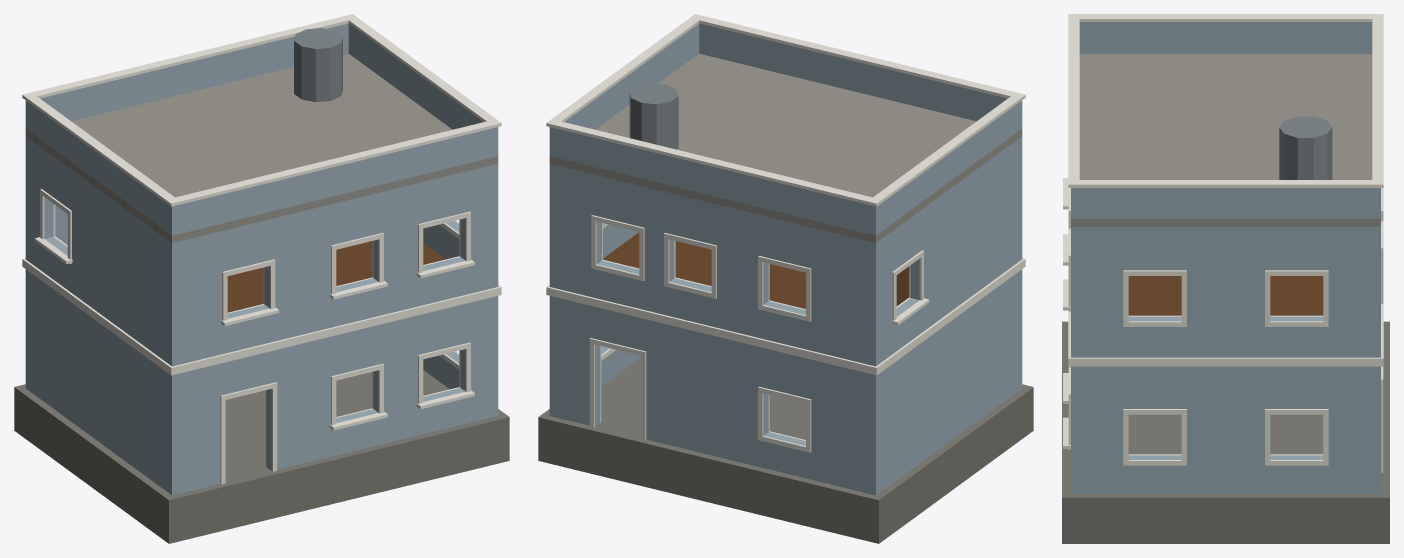
File: house_tall.glb
The picture shows the model from 3 angles, left to right: view 1: azimuth 30°, elevation 25°; view 2: azimuth 150°, elevation 25°; view 3: azimuth 270°, elevation 25°; orthographic projection. The views are drawn at different scales.
Visible parts, largest first — view 1: house_tall; view 2: house_tall; view 3: house_tall.
Boxes of the visible parts, bbox=[...] form: house_tall: bbox=[14, 14, 509, 543]; house_tall: bbox=[538, 14, 1033, 543]; house_tall: bbox=[1062, 14, 1389, 543].
Size of the model in its own units: 9.4 by 9.4 by 7.4.
